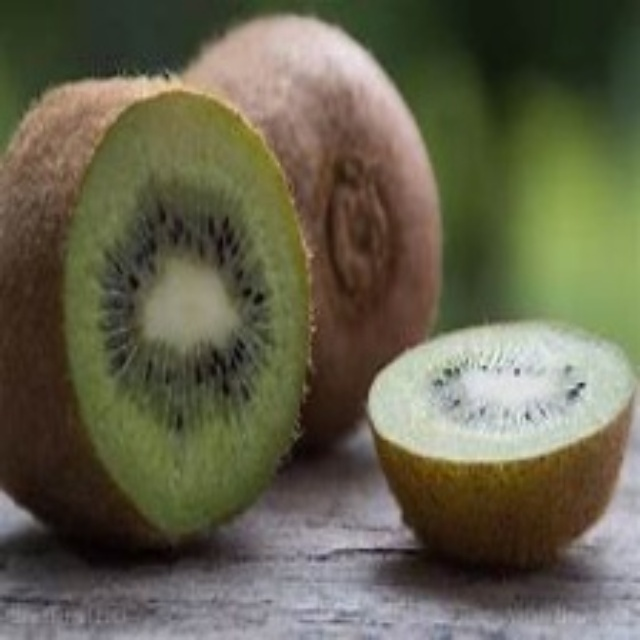kiwi: (9, 81, 311, 556), (176, 5, 451, 438), (381, 319, 623, 573)
